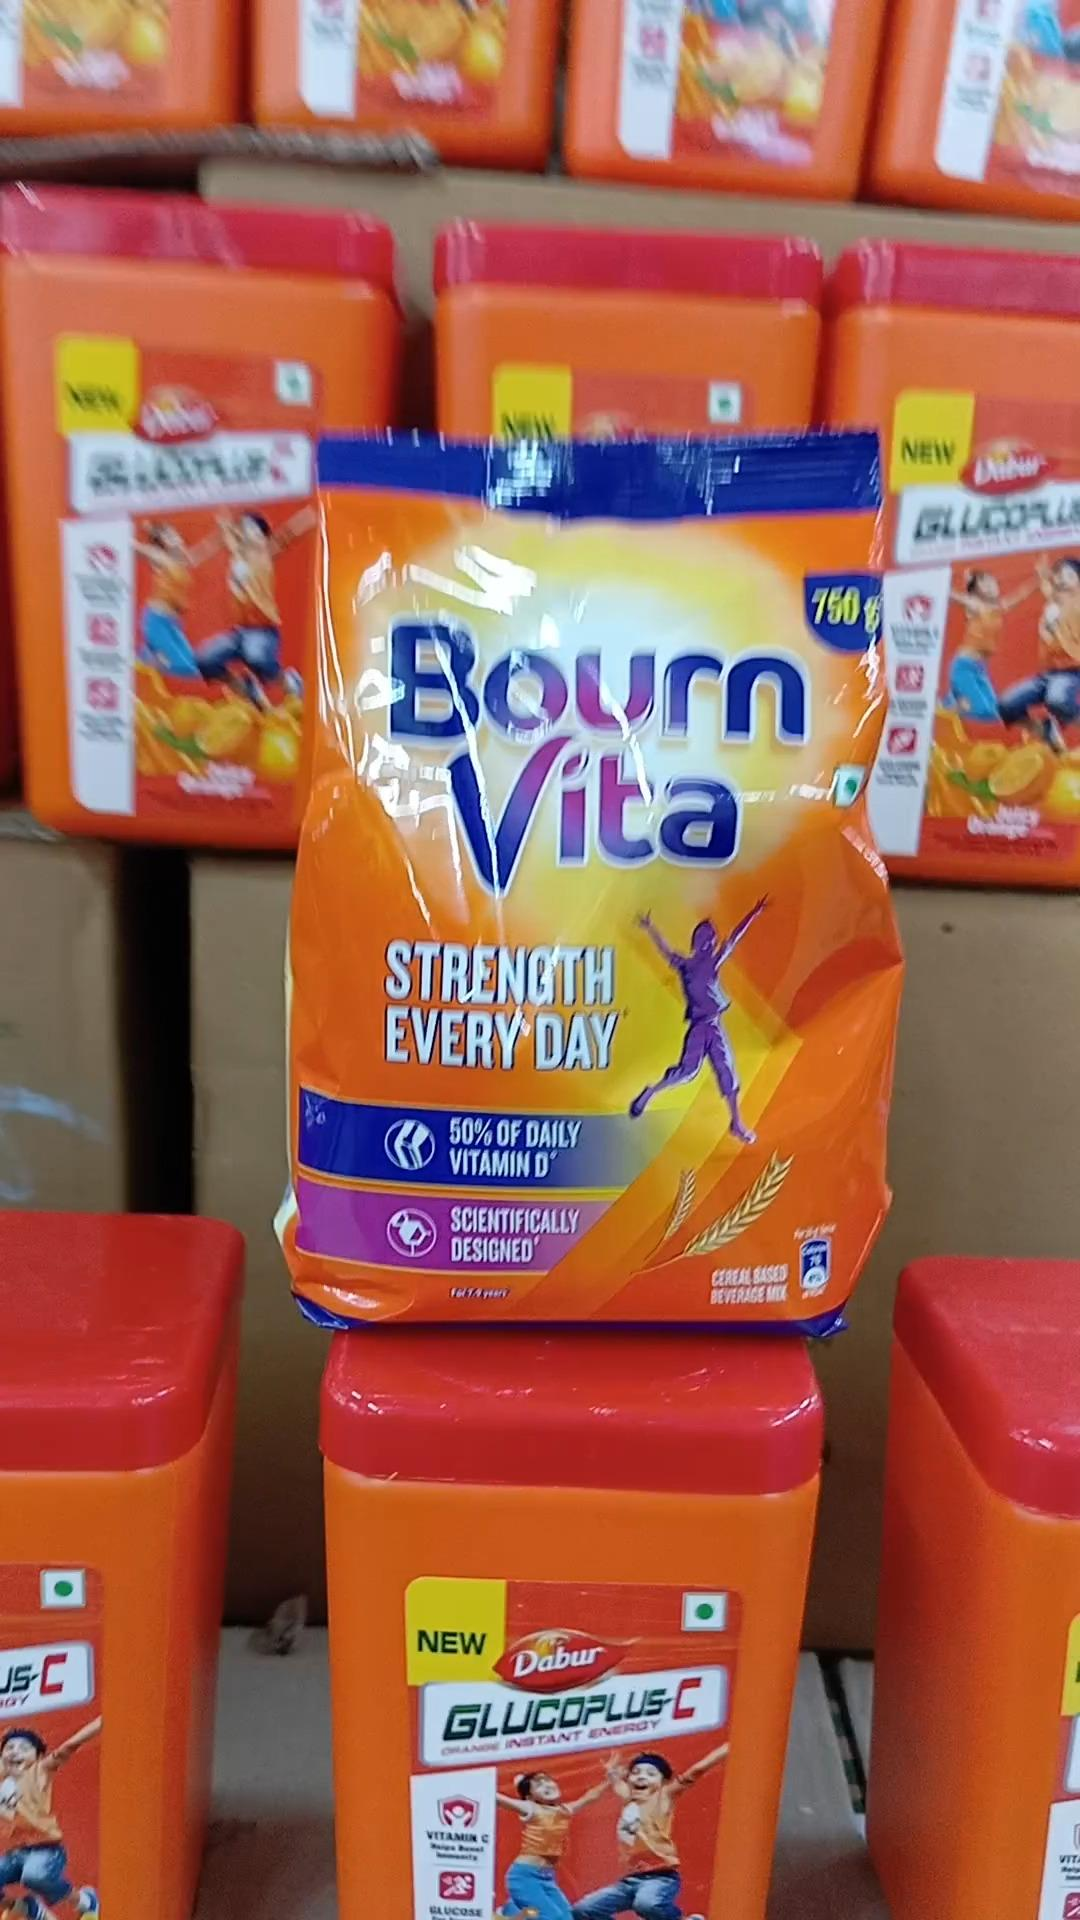BOURN_VITA_750_G_POUCH: (287, 427, 903, 1337)
